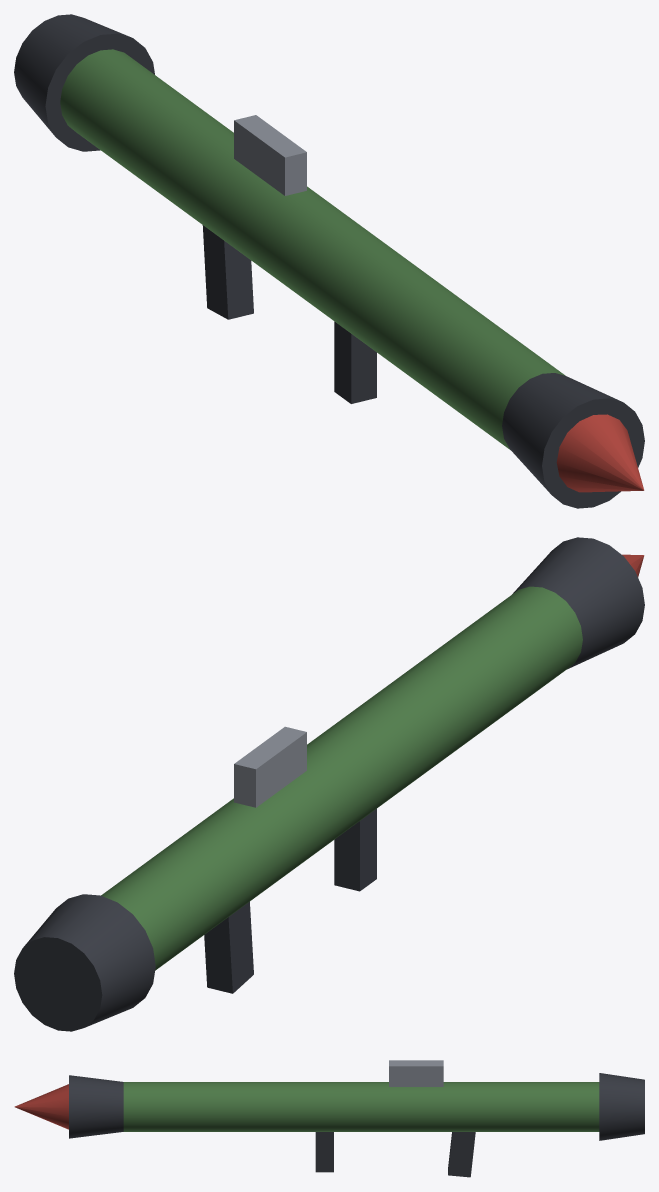
The model's file is bazooka.glb.
3 renders of one model, top to bottom at view 1: azimuth 30°, elevation 25°; view 2: azimuth 150°, elevation 25°; view 3: azimuth 270°, elevation 25°, orthographic. The views are drawn at different scales.
Parts seen in each view (by area): view 1: cyl (×3), box (×3), cone; view 2: cyl (×3), box (×3); view 3: cyl (×3), box (×3), cone.
Part boxes in pixels (left/top/right/bottom): cyl (×3): left=14, top=14, right=644, bottom=508; box (×3): left=202, top=115, right=376, bottom=403; cone: left=556, top=414, right=644, bottom=492; cyl (×3): left=14, top=537, right=644, bottom=1031; box (×3): left=204, top=726, right=376, bottom=993; cyl (×3): left=69, top=1073, right=644, bottom=1140; box (×3): left=315, top=1060, right=475, bottom=1177; cone: left=14, top=1084, right=68, bottom=1129.
Size of the model in its own units: 0.15 by 0.2672 by 1.38.
